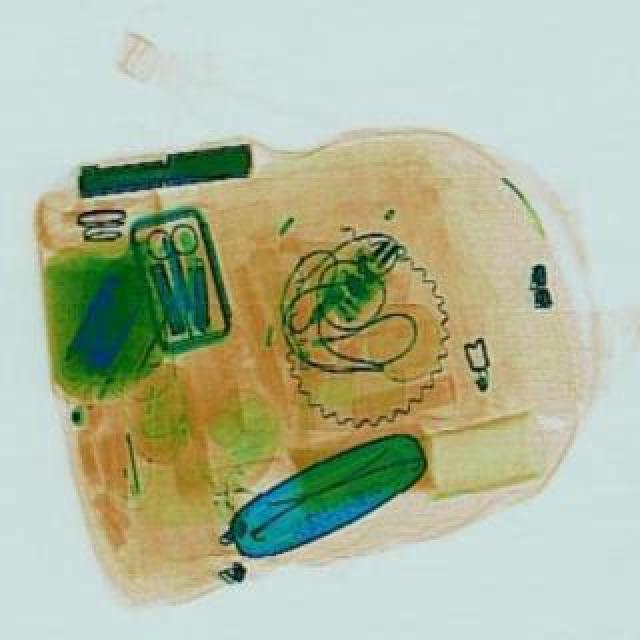pliers: (144, 224, 220, 316)
